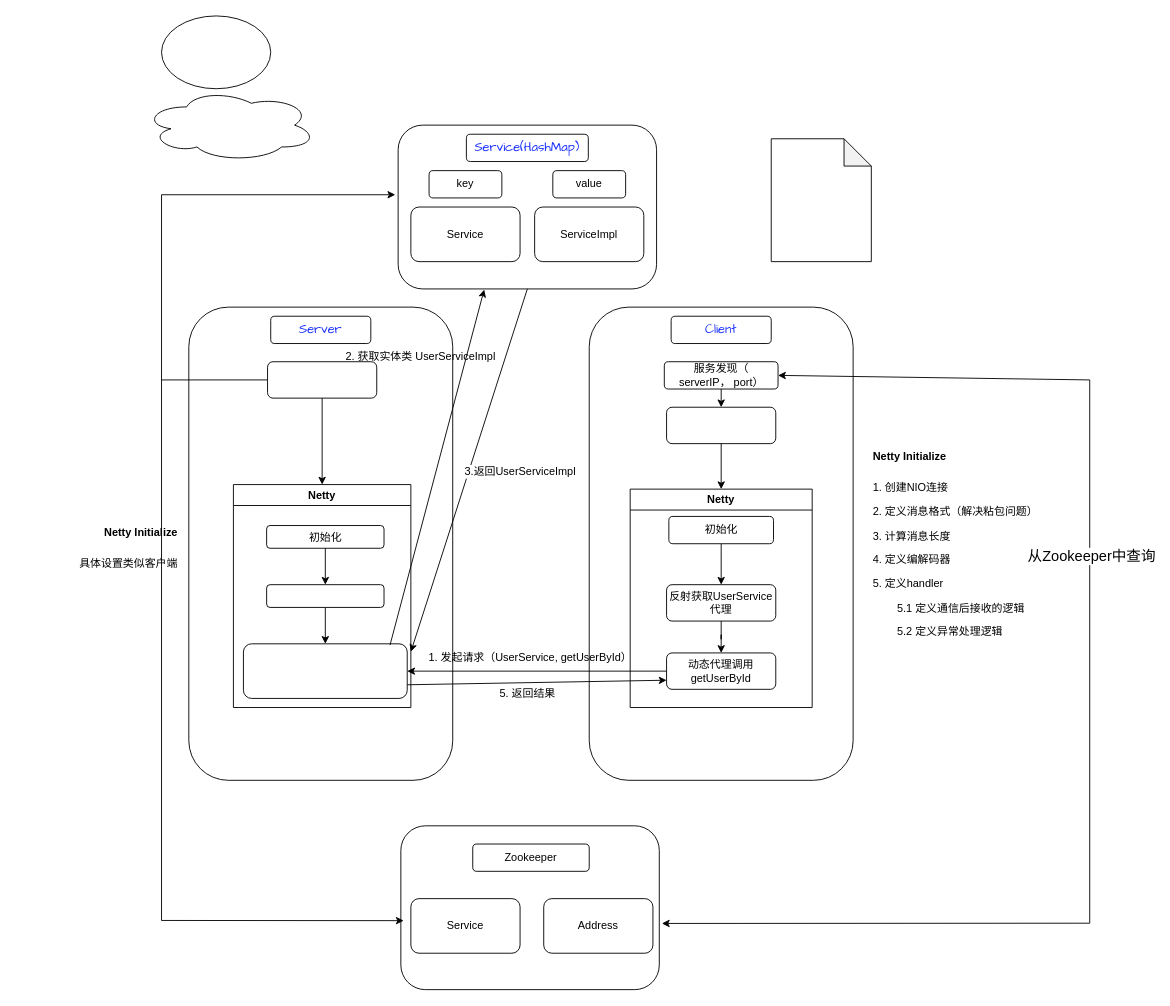
Image size: 1170x1006. Some labels were removed from this diagram. Here are the shapes that lost their labels. From the top down, the centre of each, then its label:
At (x=216, y=52): "MyRPC version1.2".
At (x=229, y=125): "Optimize:Zookeeper".
At (x=820, y=200): "补充说明： UserService提供一个方法 getUserById".
At (x=322, y=379): "服务注册和保存(UserServiceImpl)".
At (x=721, y=425): "实例化proxy(serverIP, port)".
At (x=325, y=595): "监听端口".
At (x=325, y=670): "4. method.invoke(serviceImpl, args)".
